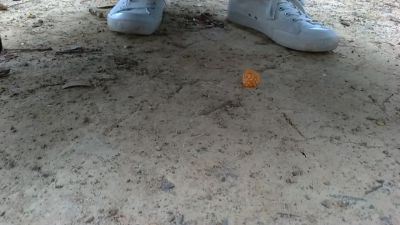eggs: (241, 68, 263, 91)
